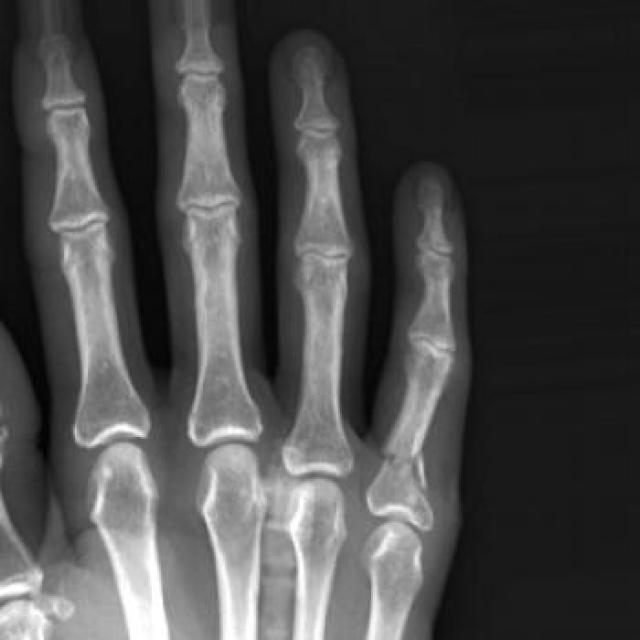Fracture: (369, 437, 436, 496)
